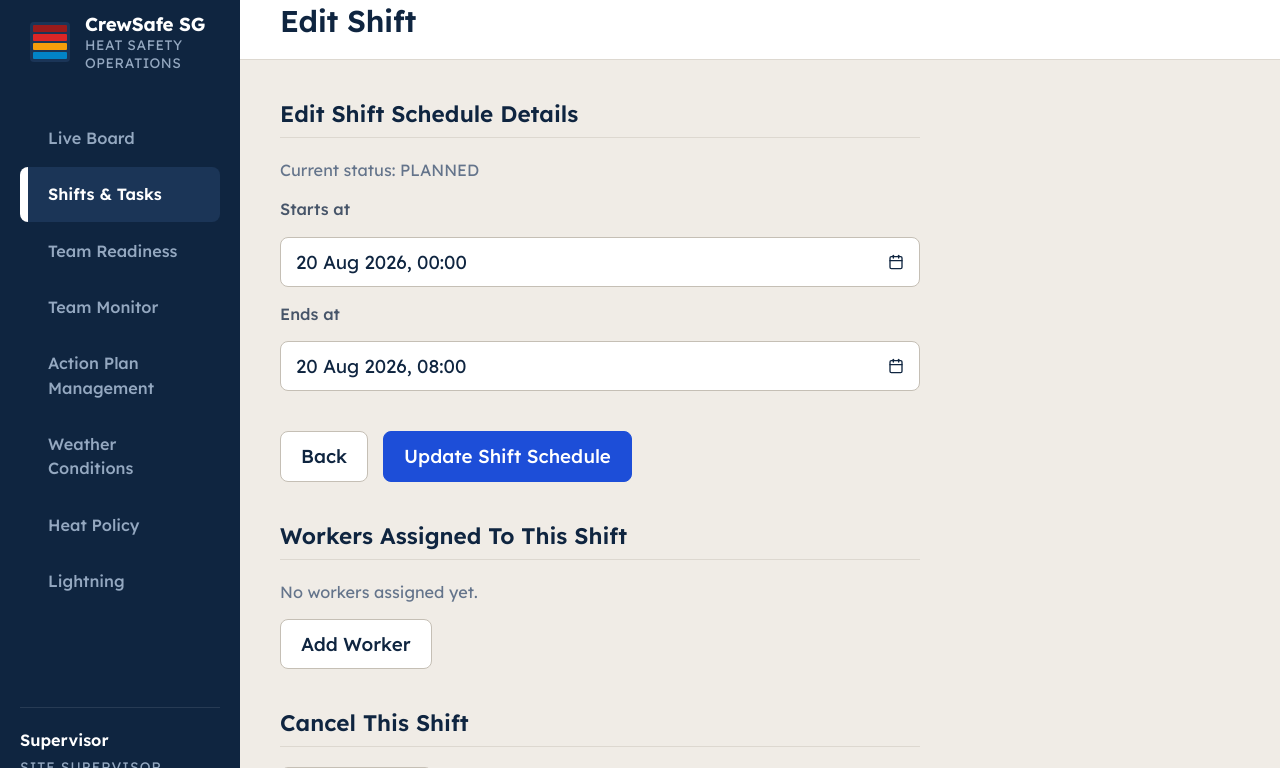
Scenario: EditShiftForm › adds a worker to the roster
# The Add-worker picker is hidden until you click the toggle (matches the Create-shift page).
Click the button "Add Worker" at [356, 644], box [280,619,432,669]
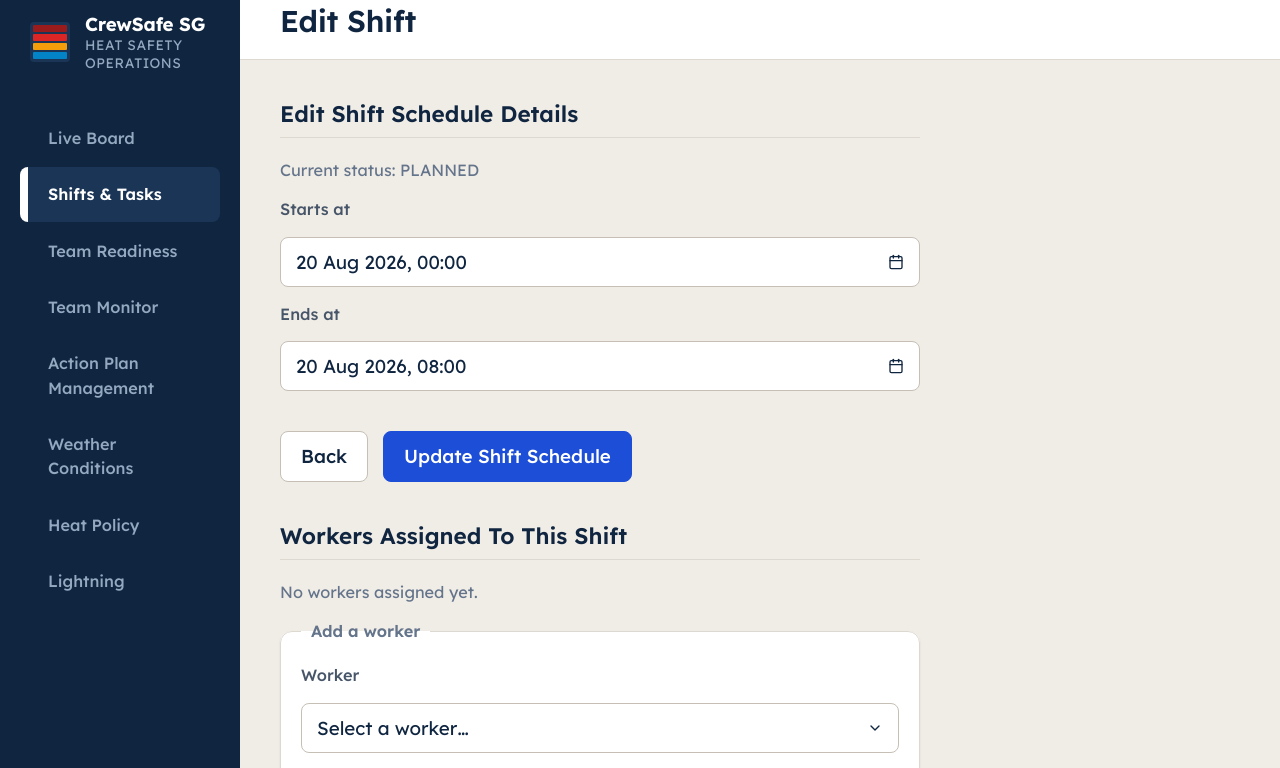
Select "Aisha" in the dropdown labelled "Worker" at [600, 728], box [301,703,899,753]
(page scrolled)
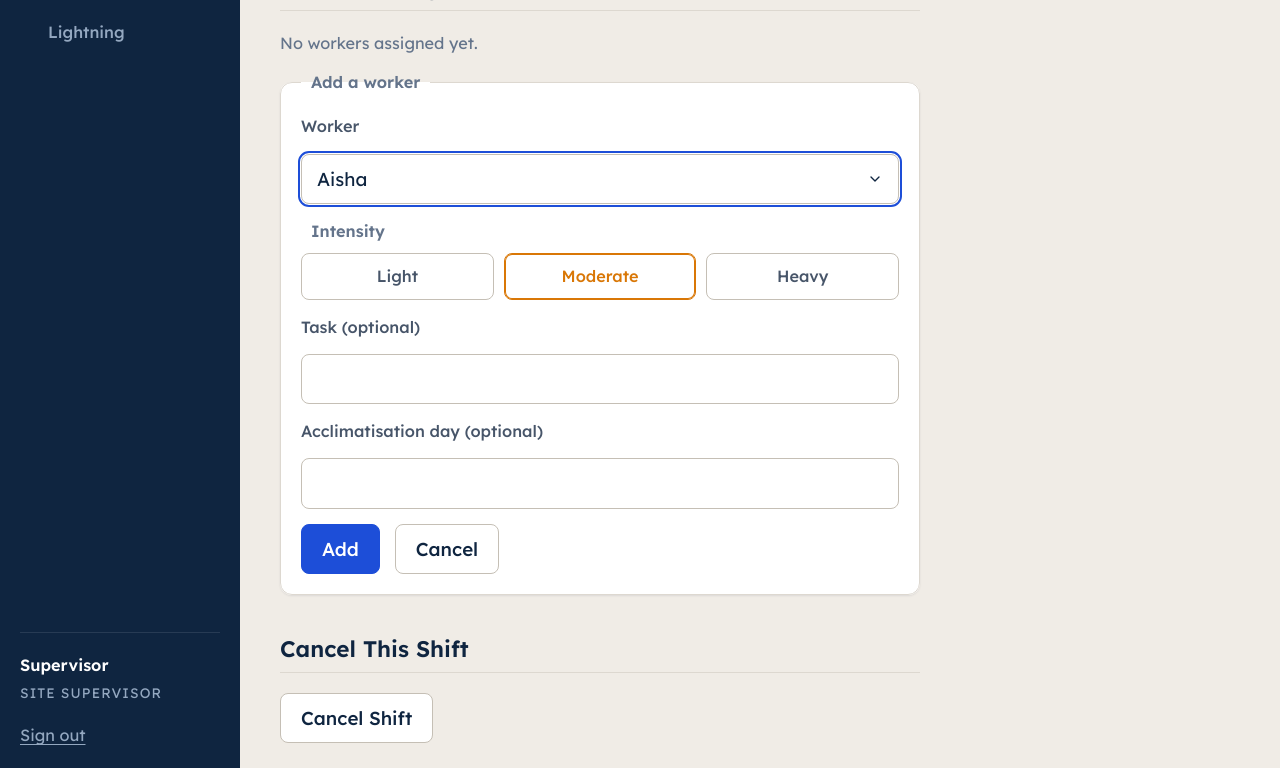
Click the button "Add" at [340, 549], box [301,524,380,574]
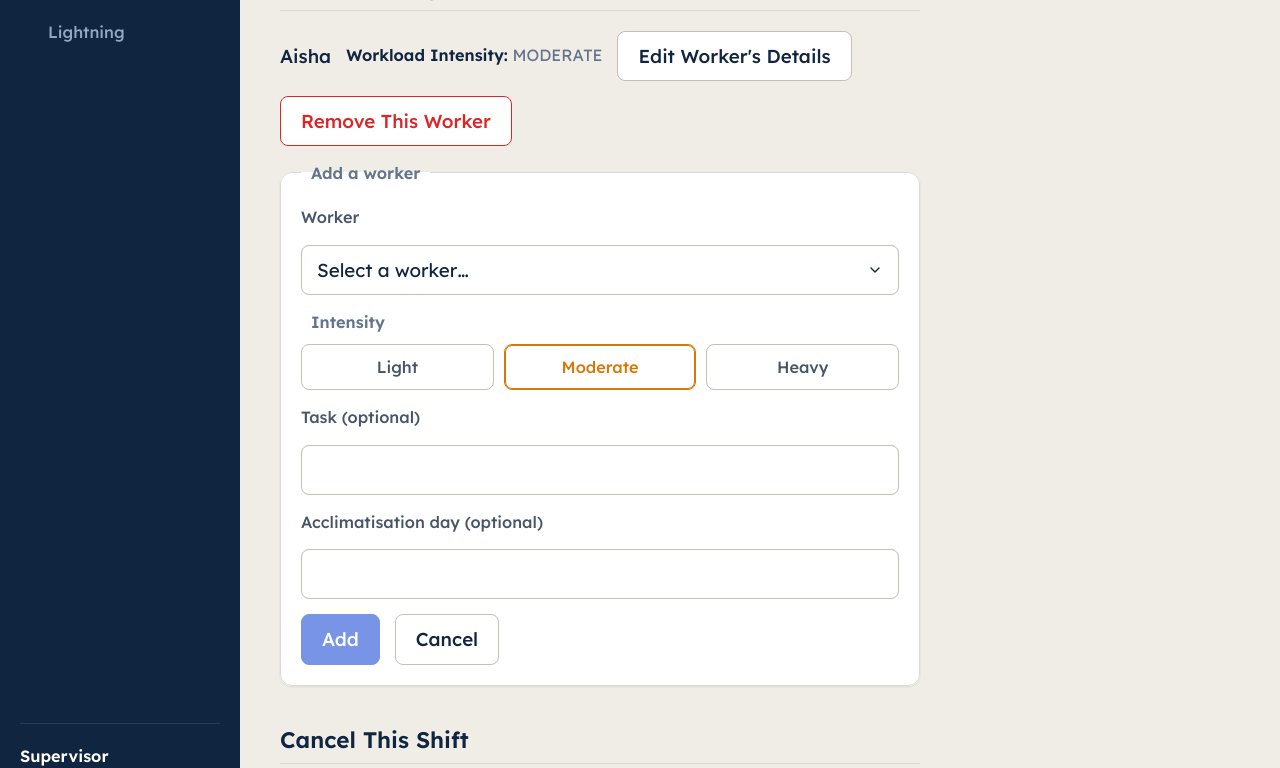
Expected: the button "Remove This Worker" is shown, [280,96,512,146]
